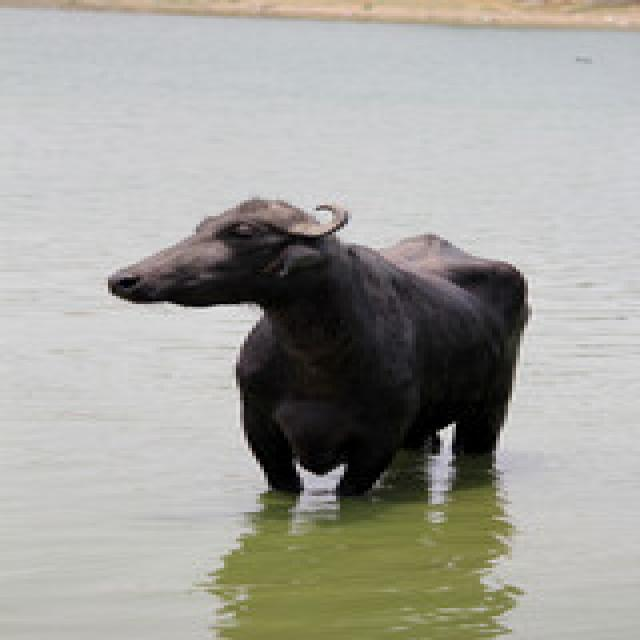Buffalo: (104, 192, 532, 499)
